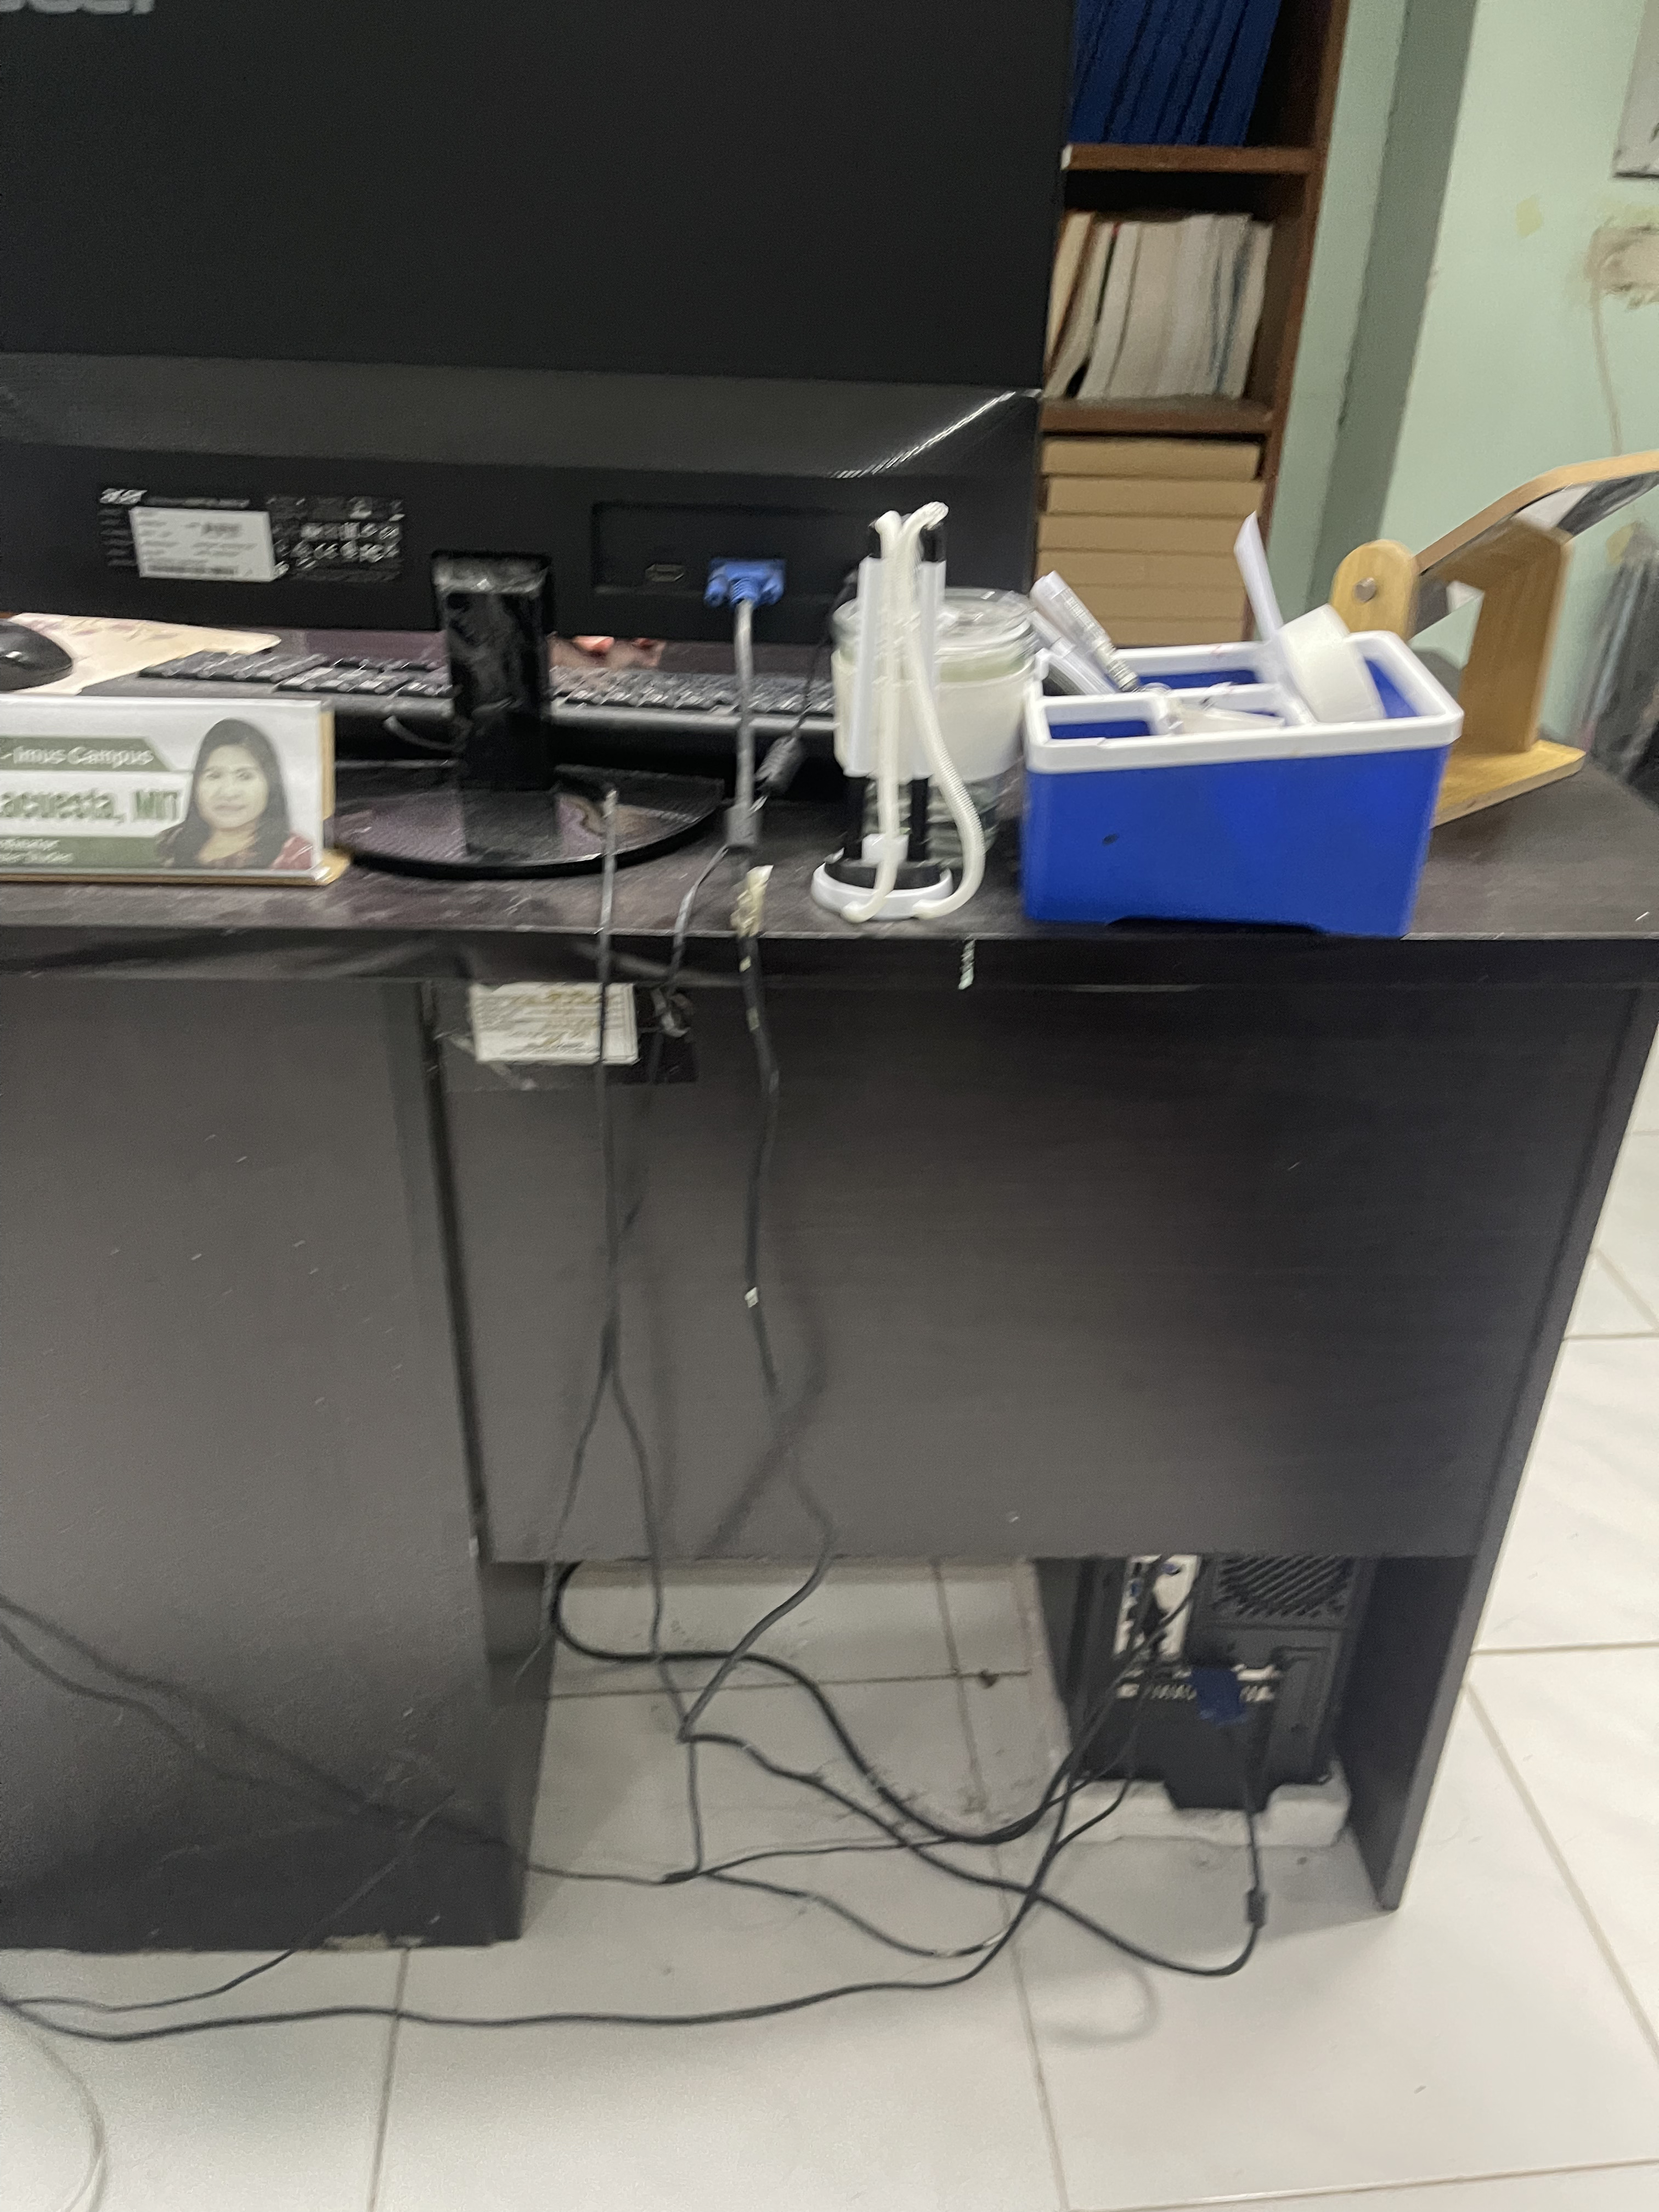table1: (7, 678, 1659, 2000)
